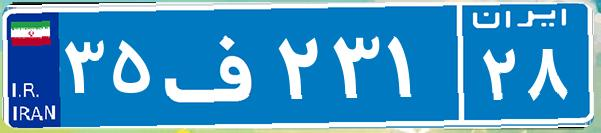1: (385, 28, 445, 110)
2: (273, 28, 330, 110), (475, 38, 525, 113)
3: (330, 28, 385, 110), (57, 26, 110, 107)
5: (110, 28, 158, 105)
8: (525, 38, 570, 115)
ف: (158, 15, 273, 115)
